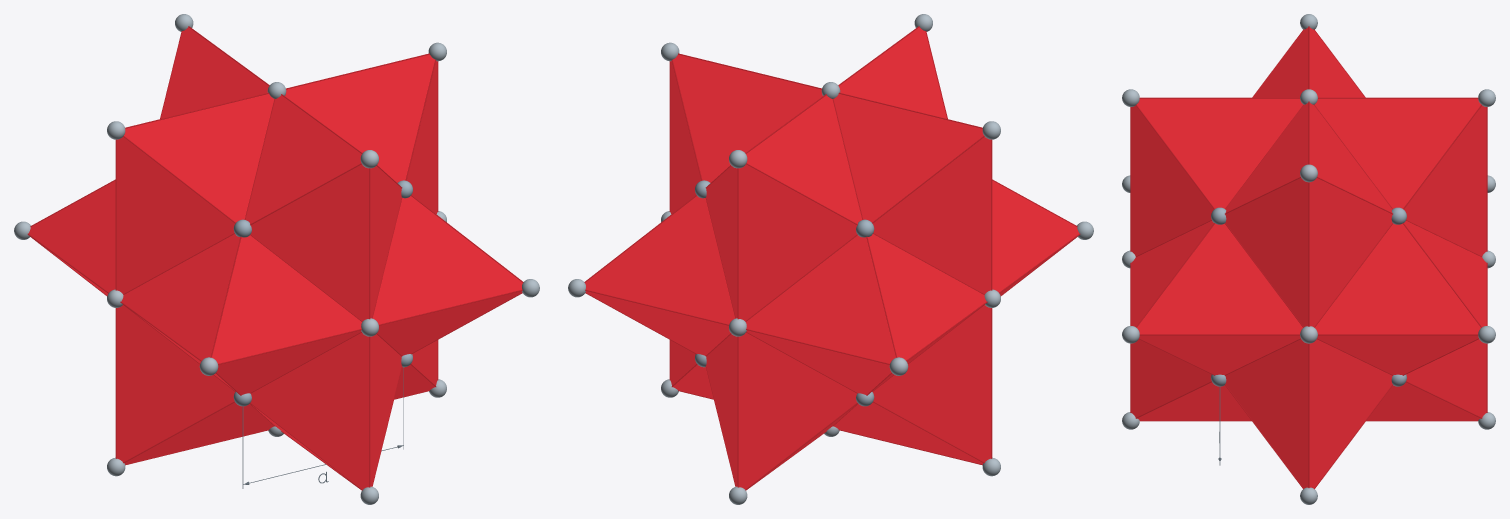
File: krz-kugelmittelpunkte.glb
The picture shows the model from 3 angles, left to right: view 1: azimuth 30°, elevation 25°; view 2: azimuth 150°, elevation 25°; view 3: azimuth 270°, elevation 25°; orthographic projection. The views are drawn at different scales.
Parts seen in each view (by area): view 1: oktaeder_kante_101_flaechen, oktaeder_kante_201_flaechen, oktaeder_kante_011_flaechen, oktaeder_kante_001_flaechen, oktaeder_kante_200_flaechen, oktaeder_kante_111_flaechen, oktaeder_kante_211_flaechen, oktaeder_kante_100_flaechen, oktaeder_kante_010_flaechen, oktaeder_kante_210_flaechen, oktaeder_kante_201_kanten, oktaeder_kante_001_kanten (+6 smaller); view 2: oktaeder_kante_100_flaechen, oktaeder_kante_201_flaechen, oktaeder_kante_010_flaechen, oktaeder_kante_000_flaechen, oktaeder_kante_200_flaechen, oktaeder_kante_110_flaechen, oktaeder_kante_211_flaechen, oktaeder_kante_101_flaechen, oktaeder_kante_011_flaechen, oktaeder_kante_210_flaechen, oktaeder_kante_201_kanten, oktaeder_kante_000_kanten (+6 smaller); view 3: oktaeder_kante_211_flaechen, oktaeder_kante_110_flaechen, oktaeder_kante_111_flaechen, oktaeder_kante_010_flaechen, oktaeder_kante_011_flaechen, oktaeder_kante_210_flaechen, oktaeder_kante_000_flaechen, oktaeder_kante_001_flaechen, oktaeder_kante_201_flaechen, oktaeder_kante_010_kanten, oktaeder_kante_011_kanten, oktaeder_kante_110_kanten (+6 smaller).
Boxes of the visible parts, box(x1,y1,x2,y2) form: oktaeder_kante_101_flaechen: box(121, 234, 361, 394); oktaeder_kante_201_flaechen: box(116, 94, 274, 293); oktaeder_kante_011_flaechen: box(245, 95, 401, 320); oktaeder_kante_001_flaechen: box(250, 332, 401, 489); oktaeder_kante_200_flaechen: box(116, 305, 273, 464); oktaeder_kante_111_flaechen: box(372, 196, 522, 355); oktaeder_kante_211_flaechen: box(285, 54, 437, 213); oktaeder_kante_100_flaechen: box(28, 180, 115, 295); oktaeder_kante_010_flaechen: box(161, 27, 268, 118); oktaeder_kante_210_flaechen: box(394, 340, 437, 398); oktaeder_kante_201_kanten: box(115, 92, 269, 290); oktaeder_kante_001_kanten: box(250, 336, 402, 490); oktaeder_kante_100_flaechen: box(746, 234, 986, 394); oktaeder_kante_201_flaechen: box(833, 94, 991, 293); oktaeder_kante_010_flaechen: box(706, 95, 862, 320); oktaeder_kante_000_flaechen: box(706, 332, 857, 489); oktaeder_kante_200_flaechen: box(834, 305, 991, 464); oktaeder_kante_110_flaechen: box(585, 196, 735, 355); oktaeder_kante_211_flaechen: box(670, 54, 822, 213); oktaeder_kante_101_flaechen: box(992, 180, 1079, 295); oktaeder_kante_011_flaechen: box(839, 27, 946, 118); oktaeder_kante_210_flaechen: box(670, 340, 713, 398); oktaeder_kante_201_kanten: box(838, 92, 992, 290); oktaeder_kante_000_kanten: box(705, 336, 857, 490); oktaeder_kante_211_flaechen: box(1225, 103, 1392, 326); oktaeder_kante_110_flaechen: box(1315, 221, 1486, 374); oktaeder_kante_111_flaechen: box(1131, 221, 1302, 374); oktaeder_kante_010_flaechen: box(1314, 98, 1486, 256); oktaeder_kante_011_flaechen: box(1131, 98, 1303, 256); oktaeder_kante_210_flaechen: box(1225, 339, 1392, 488); oktaeder_kante_000_flaechen: box(1366, 339, 1486, 420); oktaeder_kante_001_flaechen: box(1131, 339, 1251, 420); oktaeder_kante_201_flaechen: box(1253, 27, 1364, 97); oktaeder_kante_010_kanten: box(1318, 97, 1487, 251); oktaeder_kante_011_kanten: box(1130, 97, 1299, 251); oktaeder_kante_110_kanten: box(1318, 223, 1487, 375).
Bounding box in the file's own units: 2.1 × 2.18 × 2.1.
